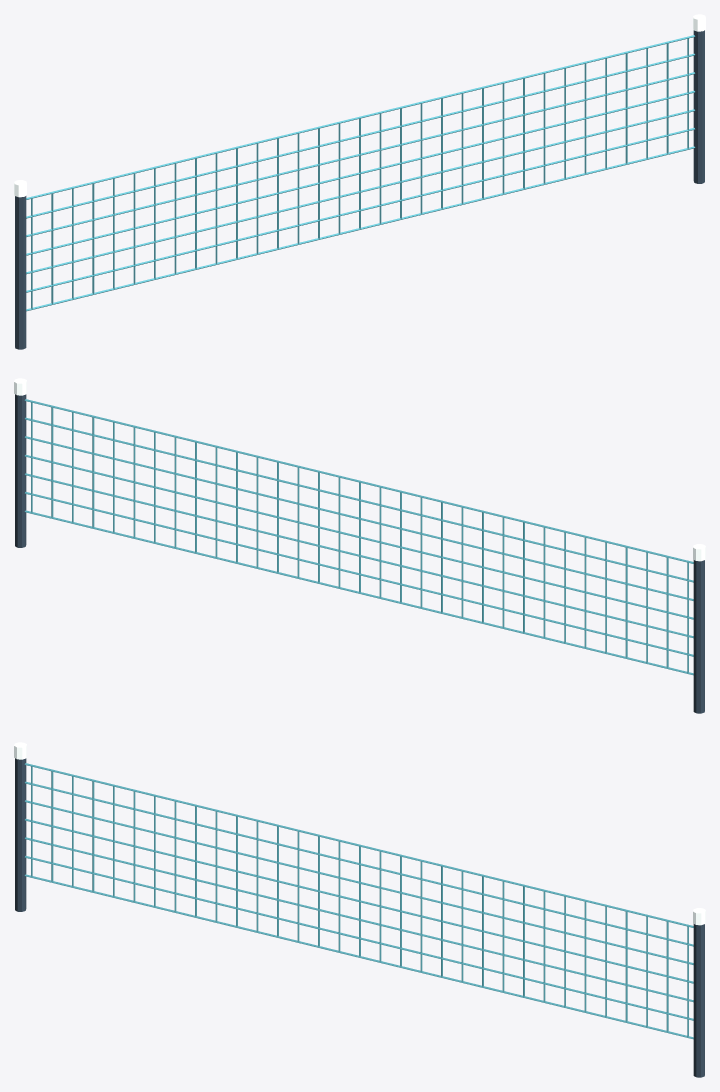
File: safety-fence-night-floodlit.glb
The picture shows the model from 3 angles, top to bottom: view 1: azimuth 30°, elevation 25°; view 2: azimuth 150°, elevation 25°; view 3: azimuth 330°, elevation 25°; orthographic projection.
Visible parts, largest first — view 1: safety-fence-night-floodlit; view 2: safety-fence-night-floodlit; view 3: safety-fence-night-floodlit.
Boxes of the visible parts, bbox=[...] form: safety-fence-night-floodlit: bbox=[14, 14, 705, 349]; safety-fence-night-floodlit: bbox=[14, 378, 705, 713]; safety-fence-night-floodlit: bbox=[14, 742, 705, 1077].
Size of the model in its own units: 6.1 by 1.39 by 0.104.
